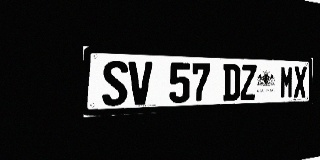5: (170, 62, 190, 103)
7: (191, 63, 210, 103)
D: (223, 64, 240, 101)
M: (280, 66, 294, 99)
S: (102, 60, 128, 106)
V: (129, 61, 152, 105)
X: (293, 66, 307, 98)
Z: (240, 64, 256, 100)
